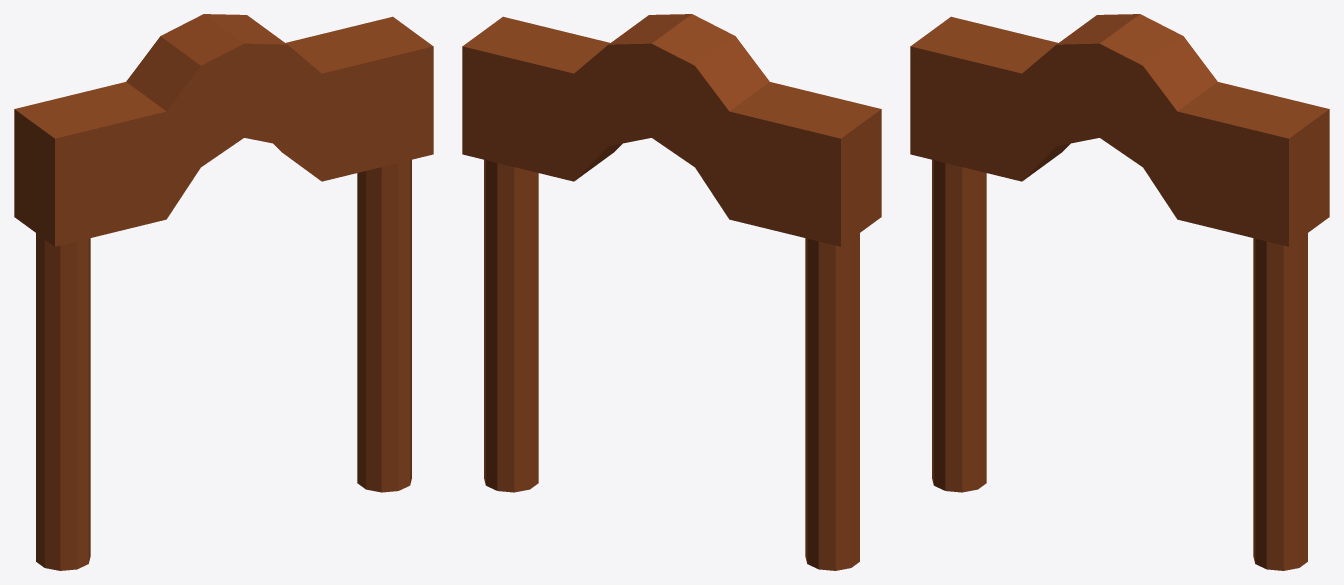
File: gate.fbx
The picture shows the model from 3 angles, left to right: view 1: azimuth 30°, elevation 25°; view 2: azimuth 150°, elevation 25°; view 3: azimuth 330°, elevation 25°; orthographic projection.
Visible parts, largest first — view 1: gate; view 2: gate; view 3: gate.
Part boxes in pixels (x1,y1,x2,y2): gate: (14,14,433,570); gate: (462,14,881,570); gate: (910,14,1329,570).
Bounding box in the file's own units: 132 × 163 × 24.41.
